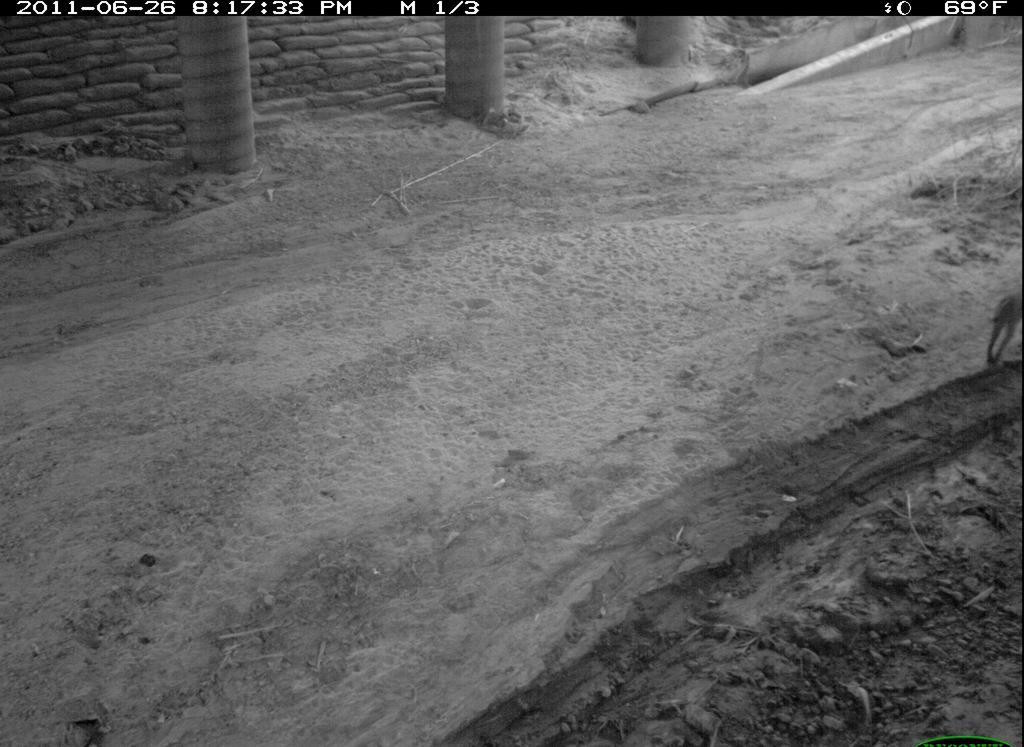bobcat: (975, 280, 1023, 361)
